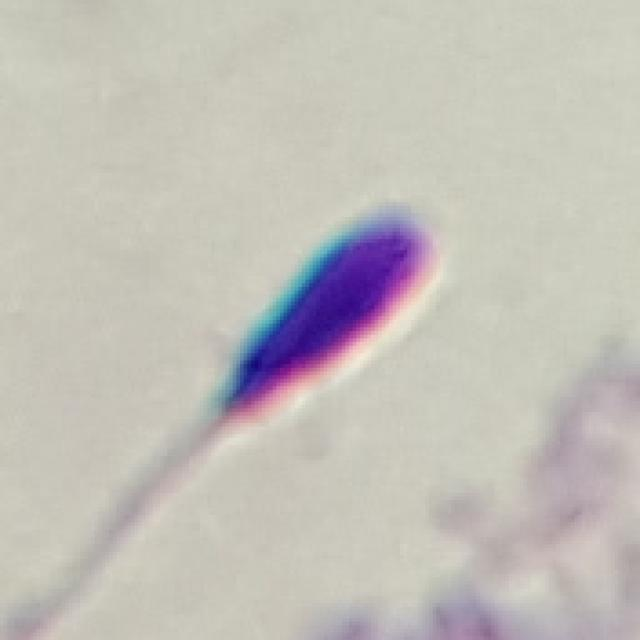abnormal sperm: (56, 202, 454, 587)
